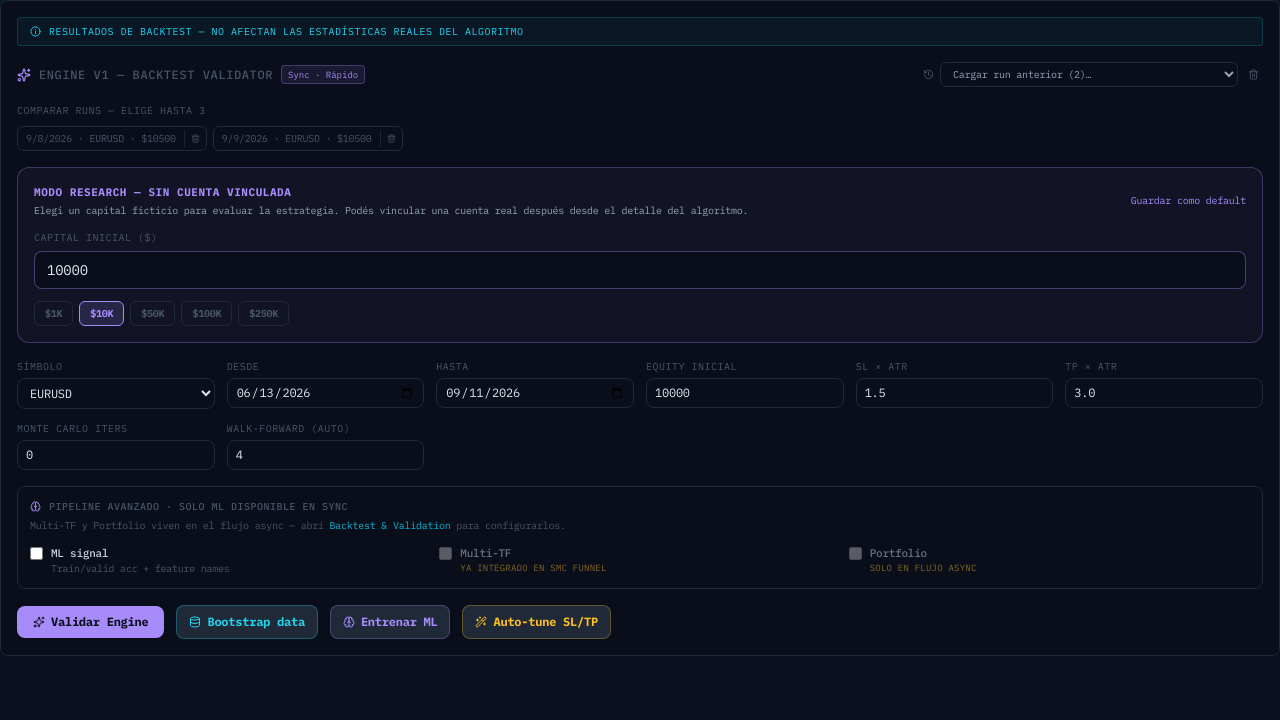
it: EngineBacktestPanel — Compare params snapshot (Mejora #7) › renders all 8 param rows from COMPARE_PARAMS
The width and height of the screenshot is (1280, 720).
Expected: the text "Comparar runs — elige hasta 3" is shown, [17,104,206,117]
Click the button "9/8/2026 · EURUSD · $10500": (101, 138) [18,127,184,150]
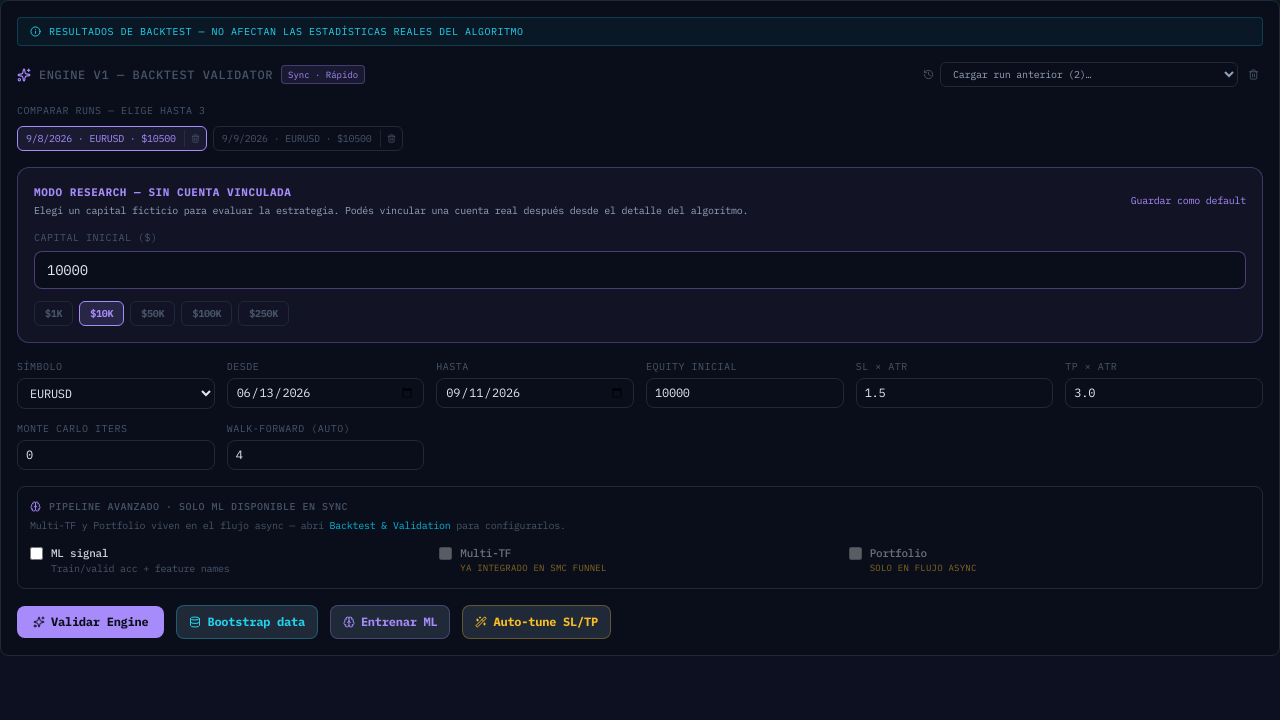
Click the button "9/9/2026 · EURUSD · $10500": (297, 138) [214,127,380,150]
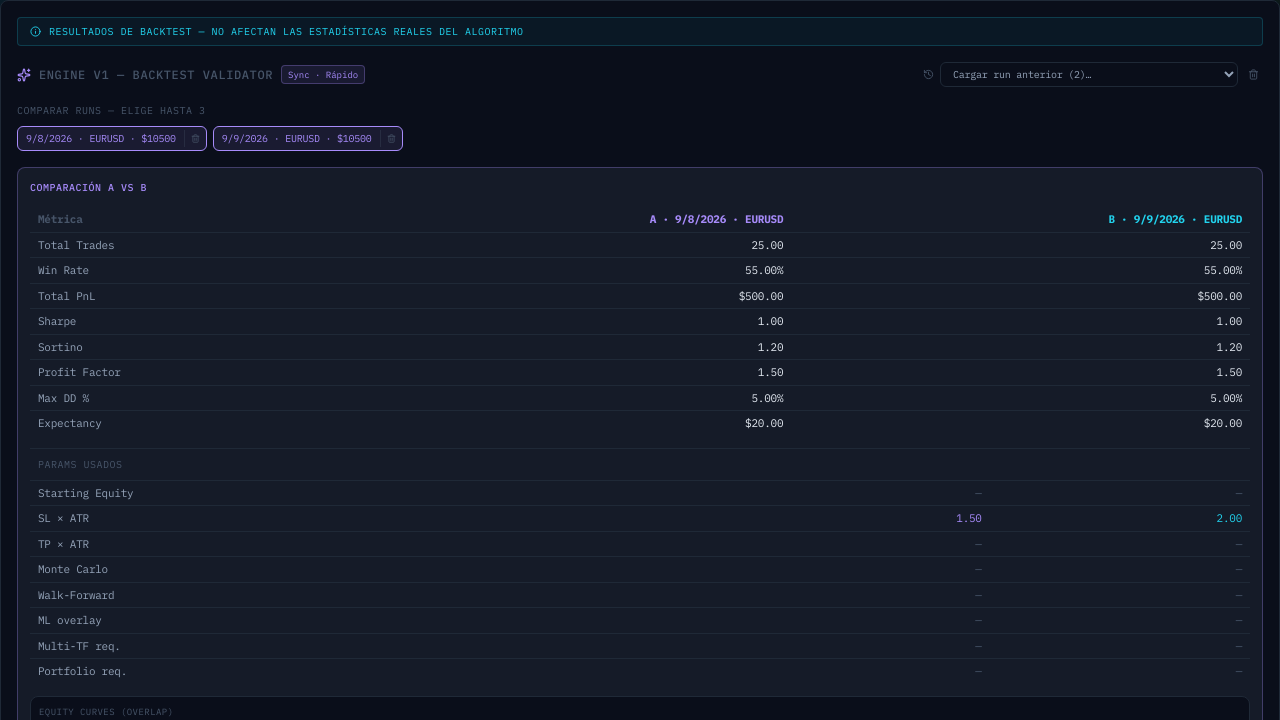
Expected: the element with test id "compare-params" is shown, [30,448,1250,684]
Expected: the text "Starting Equity" is shown, [30,480,730,506]
Expected: the text "SL × ATR" is shown, [30,506,730,531]
